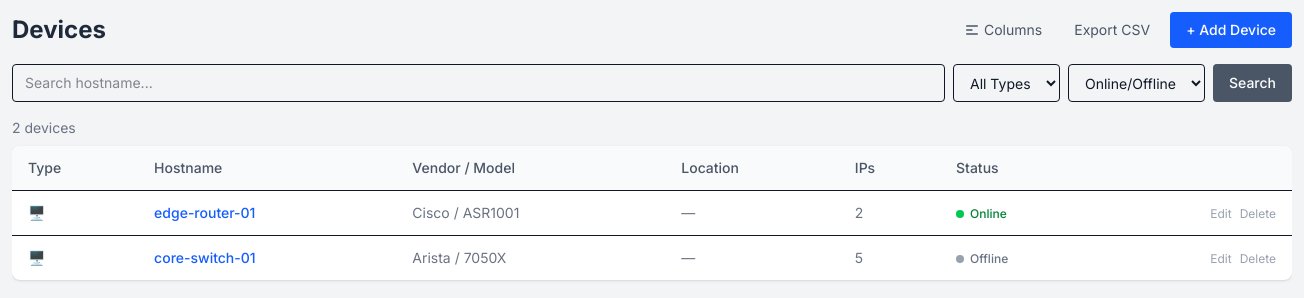
Test: DevicesPage › runs a filtered search through the search endpoint
Expected: the link "edge-router-01" is shown, [154,204,255,221]
In the field with placeholder "Search hostname...": (478, 83) [12,64,945,102], type "edge"
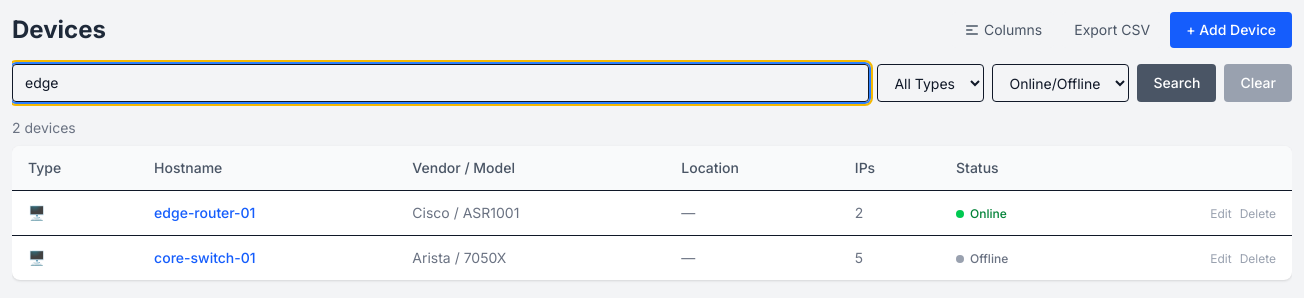
Click the button "Search": (1177, 83) [1138,64,1216,102]
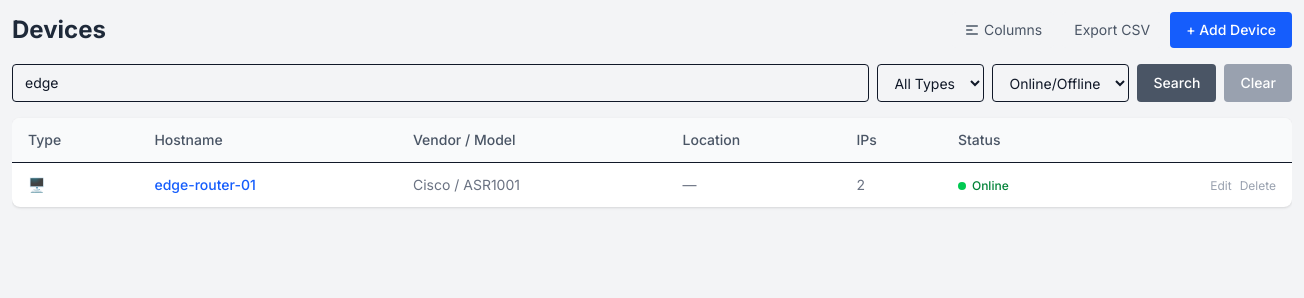
Expected: the link "edge-router-01" is shown, [154,176,256,193]
Expected: the link "core-switch-01" is gone
